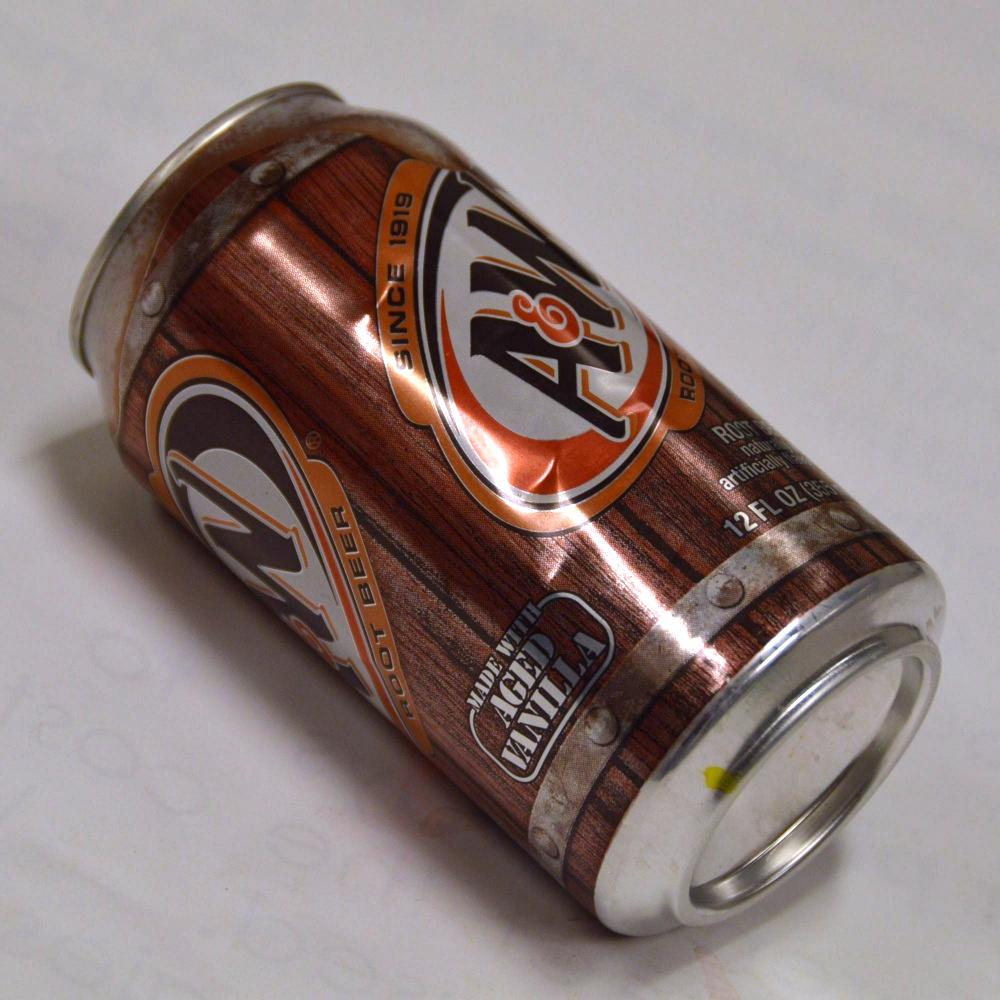Metal: (88, 82, 908, 967)
